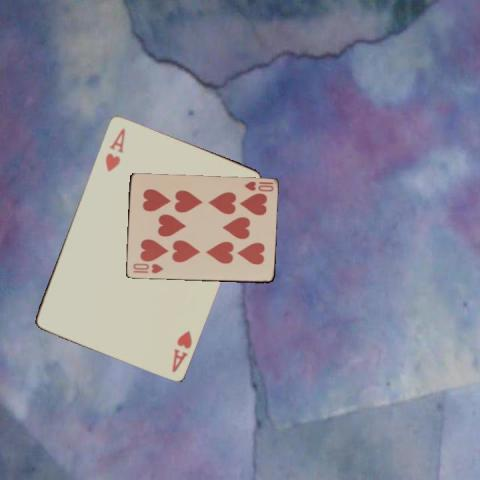10h: (130, 260, 165, 275), (241, 179, 275, 193)
Ah: (102, 125, 127, 172), (169, 328, 193, 374)
